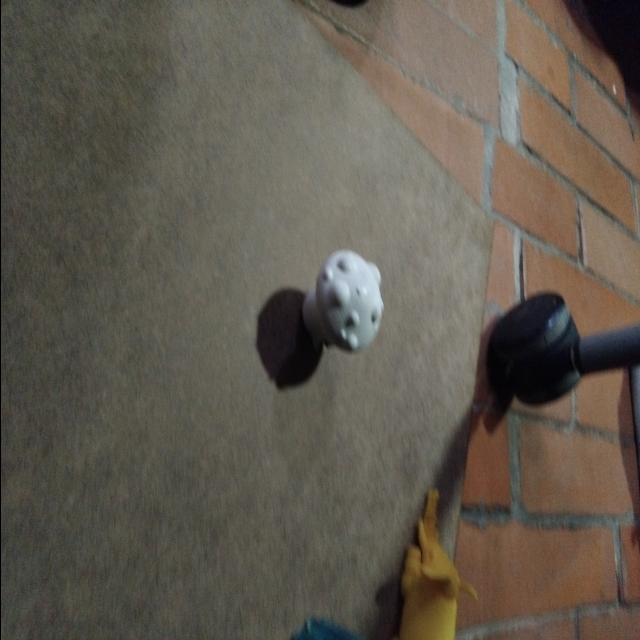Hongo: (307, 236, 389, 364)
